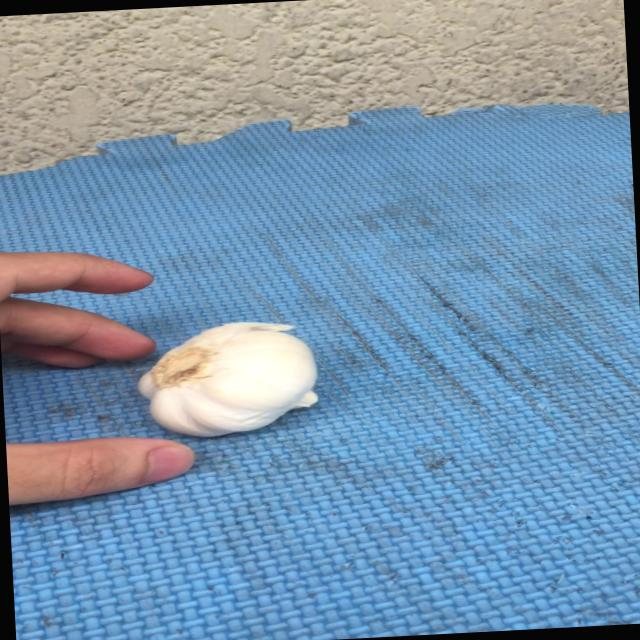bawang: (132, 316, 326, 444)
